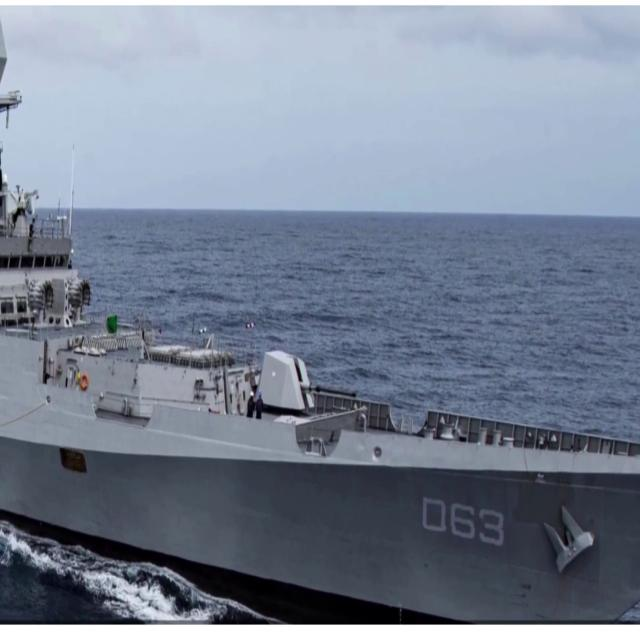OCR: (418, 491, 508, 548)
